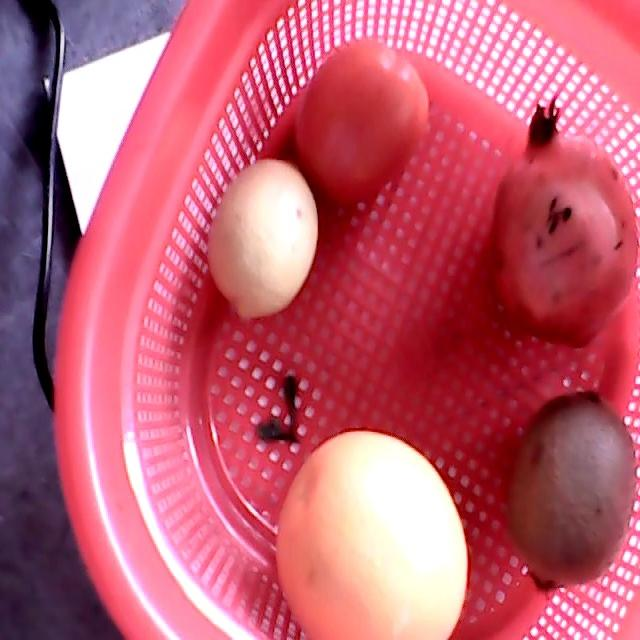kiwi: (509, 391, 636, 590)
lemon: (207, 160, 317, 316)
orange: (275, 430, 469, 639)
pomegranate: (490, 98, 637, 351)
tomato: (295, 38, 428, 204)
